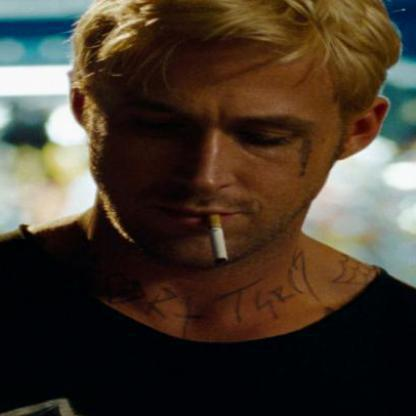cigarette: (204, 213, 231, 268)
person: (0, 0, 415, 415)
